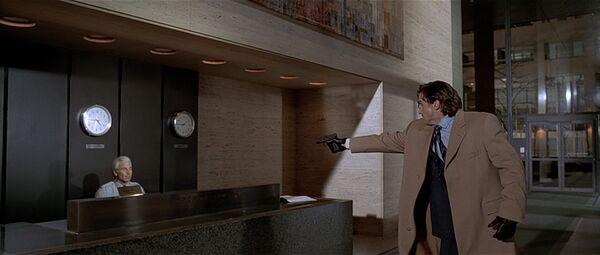Gun: (316, 133, 343, 153)
